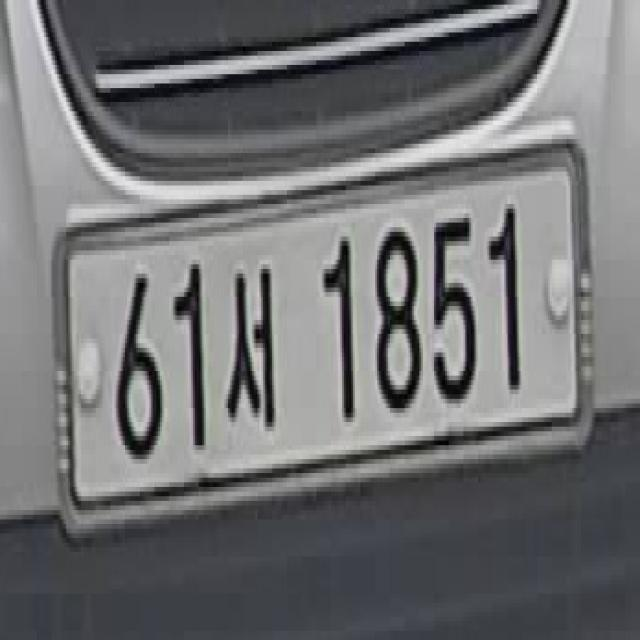1: (318, 220, 364, 428), (486, 201, 532, 395), (170, 252, 211, 459)
5: (430, 198, 481, 412)
6: (113, 257, 164, 473)
8: (372, 210, 424, 420)
license_plate: (39, 109, 610, 574)
seo: (224, 240, 278, 450)
